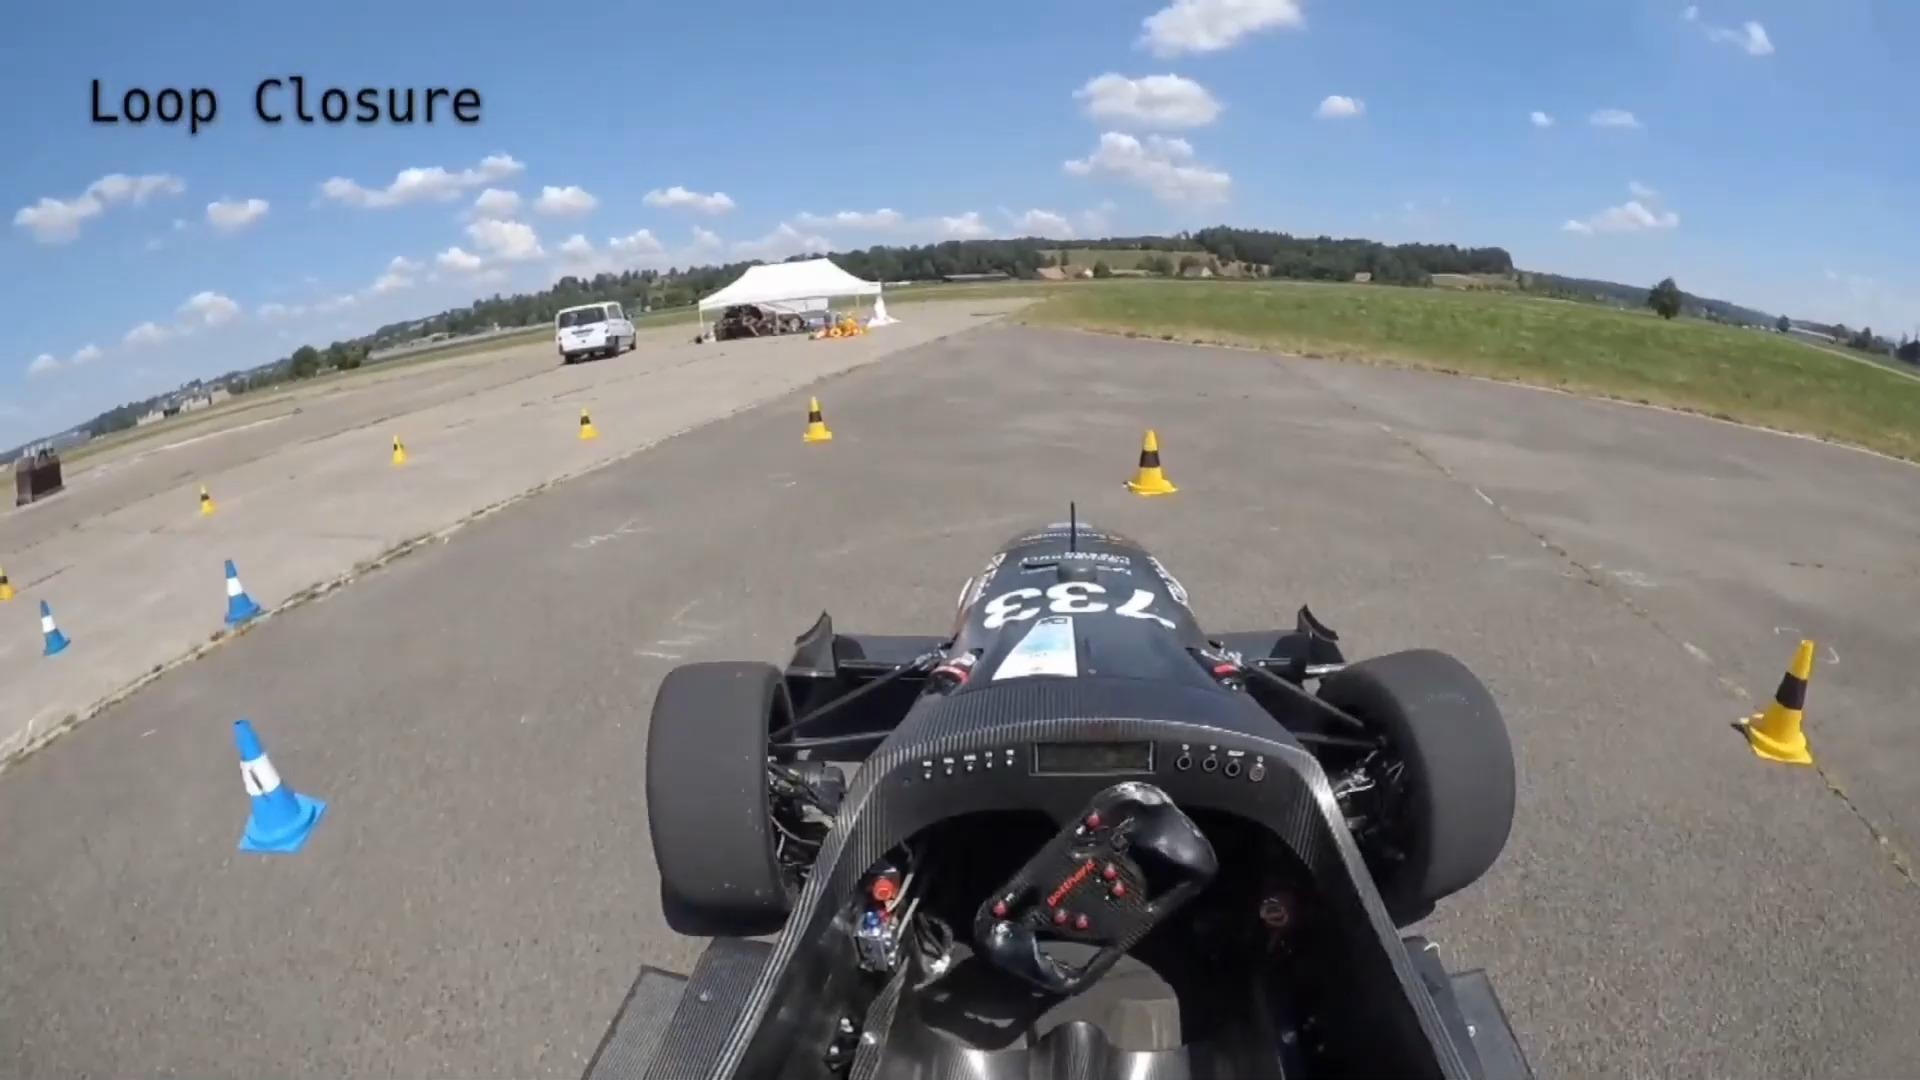blue_cone: (225, 716, 334, 858), (215, 555, 266, 630), (36, 599, 71, 657)
yellow_cone: (1737, 630, 1818, 770), (1124, 427, 1179, 497), (800, 397, 835, 446), (574, 407, 601, 442), (196, 484, 220, 518), (388, 434, 410, 465), (0, 564, 16, 604)
